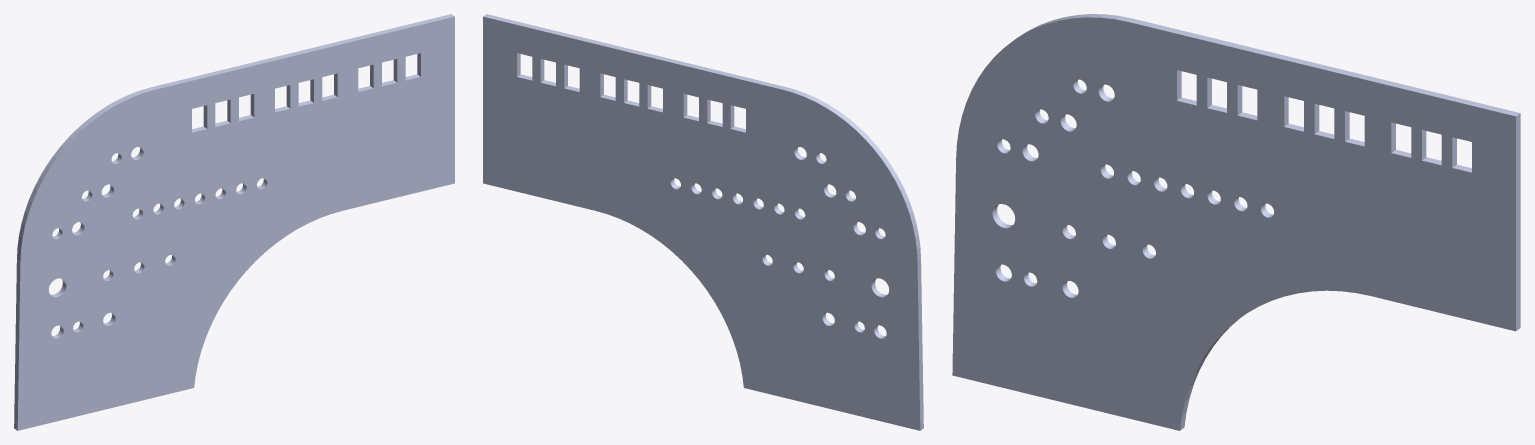
Rendered from Dashboard_Cover.glb.
3 renders of one model, left to right at view 1: azimuth 30°, elevation 25°; view 2: azimuth 150°, elevation 25°; view 3: azimuth 330°, elevation 25°, orthographic. The views are drawn at different scales.
Visible parts, largest first — view 1: world; view 2: world; view 3: world.
Boxes of the visible parts, x1,y1,x2,y2 form: world: [14, 14, 454, 430]; world: [483, 14, 923, 430]; world: [952, 14, 1520, 430].
Size of the model in its own units: 211 by 142 by 3.
